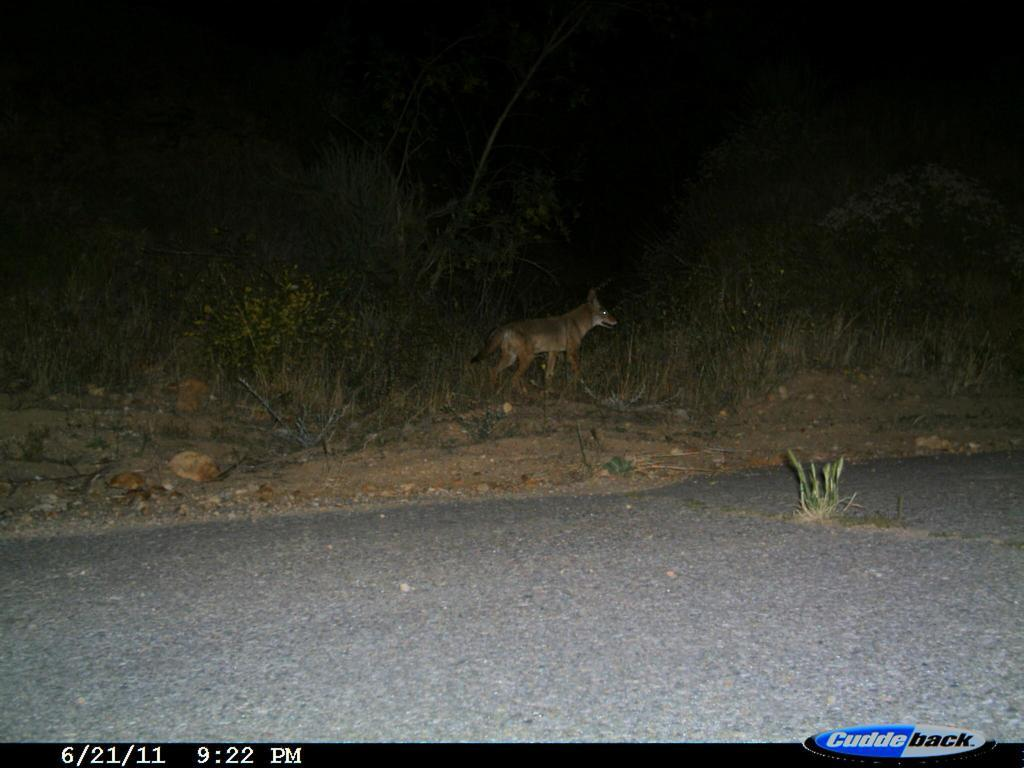coyote: (464, 285, 629, 406)
